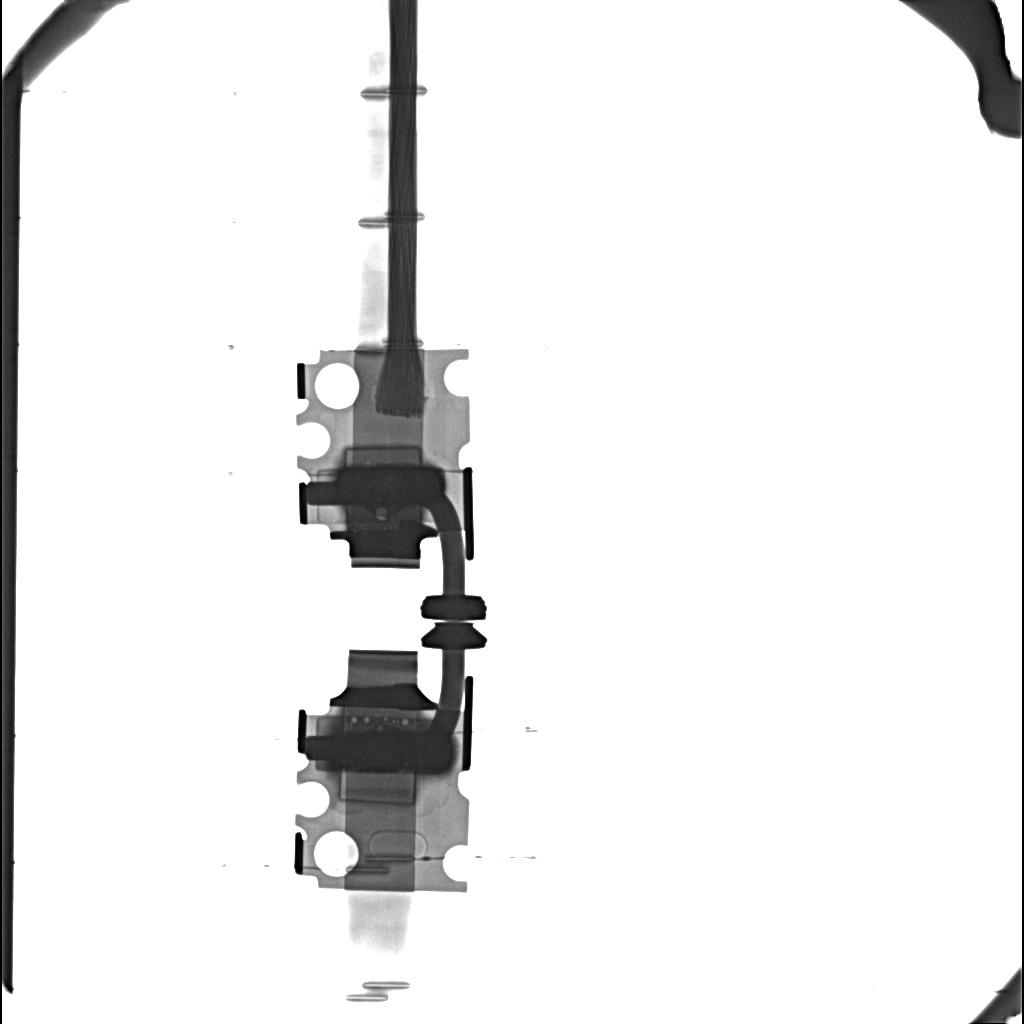defect: (327, 733, 453, 773), (338, 467, 443, 507), (338, 774, 417, 806), (344, 445, 421, 465), (376, 515, 388, 521), (402, 718, 408, 725), (351, 717, 357, 723)
